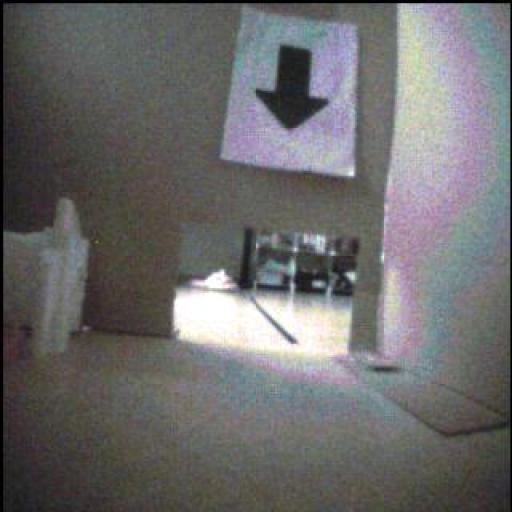arrow: (257, 46, 329, 131)
